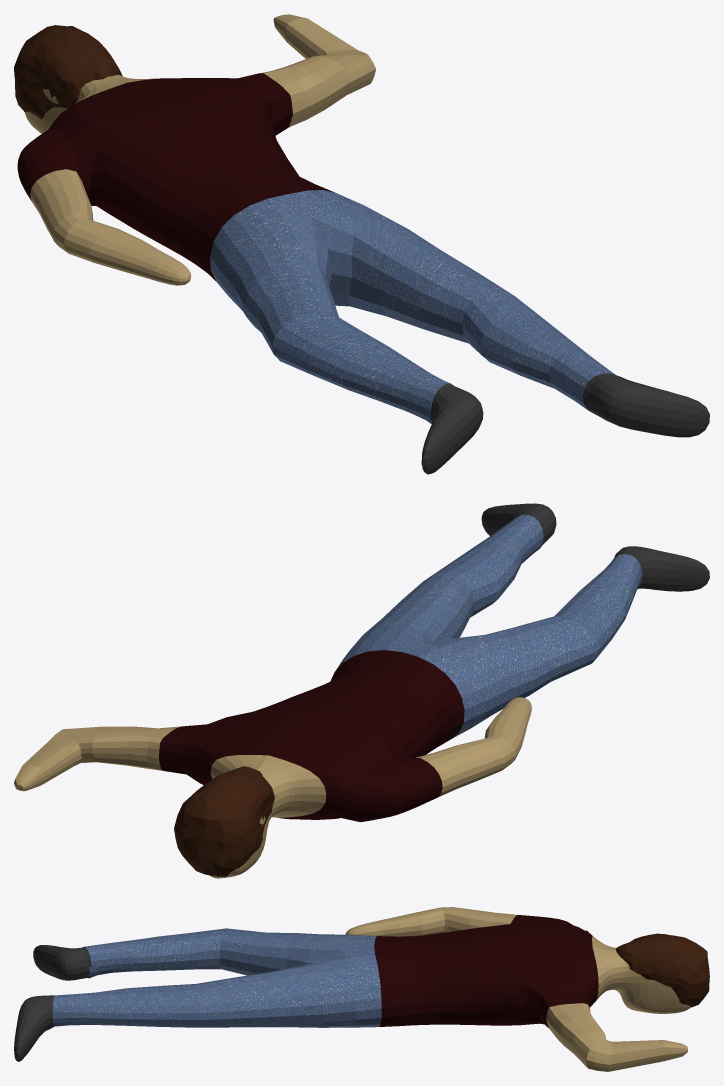
Rendered from Muerto 1.fbx.
3 views of the same model, one above another, from view 1: azimuth 30°, elevation 25°; view 2: azimuth 150°, elevation 25°; view 3: azimuth 270°, elevation 25° (orthographic). The views are drawn at different scales.
Parts seen in each view (by area): view 1: Muerto 1; view 2: Muerto 1; view 3: Muerto 1.
Part boxes in pixels (x1,y1,x2,y2): Muerto 1: (14,14,709,474); Muerto 1: (14,503,709,878); Muerto 1: (14,907,709,1071).
Bounding box in the file's own units: 72.94 × 19.01 × 150.
Materials: 5 (1 with a texture image).
